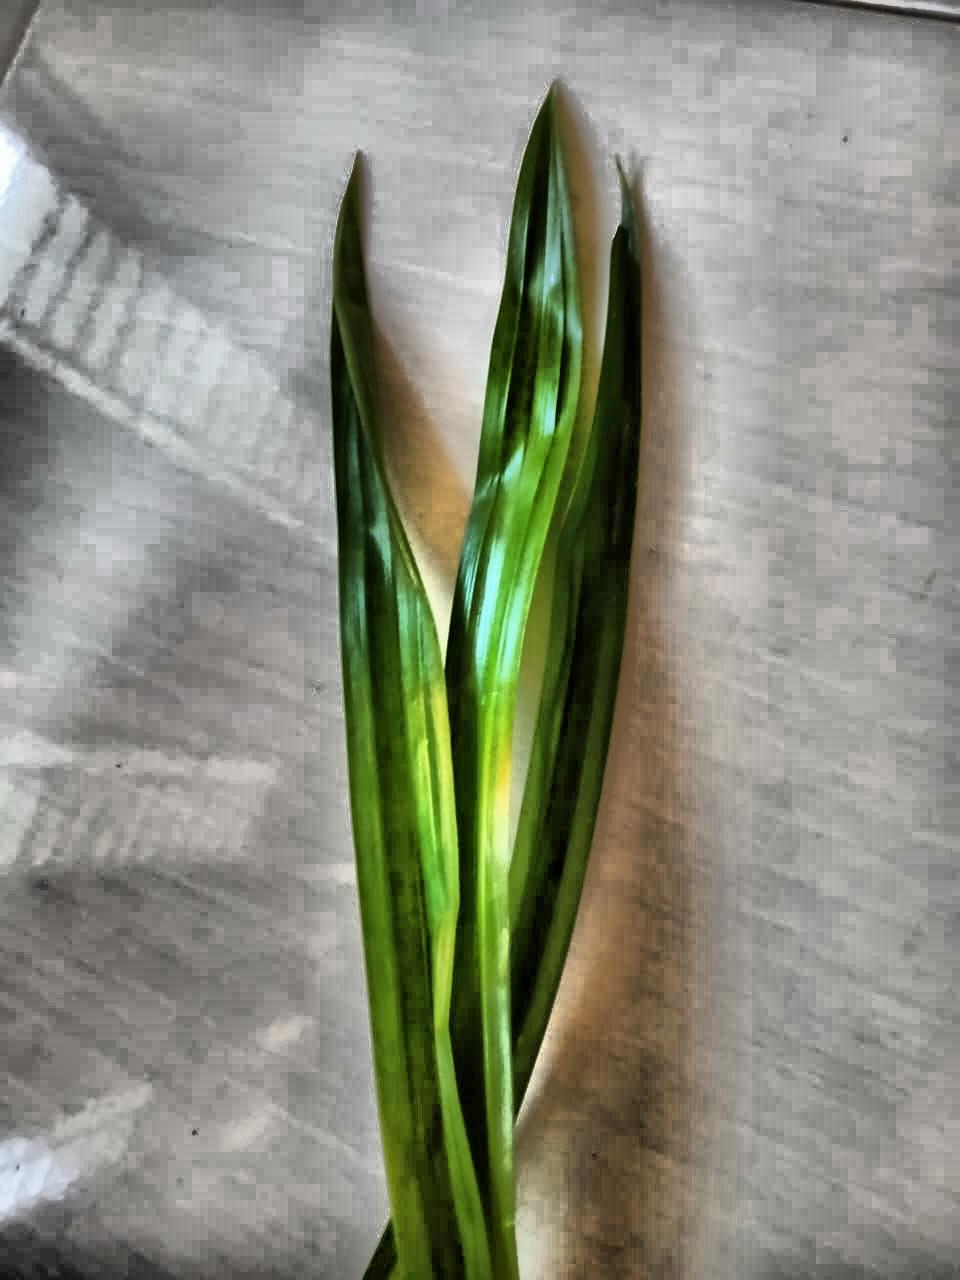daun pandan: (330, 85, 643, 1279)
